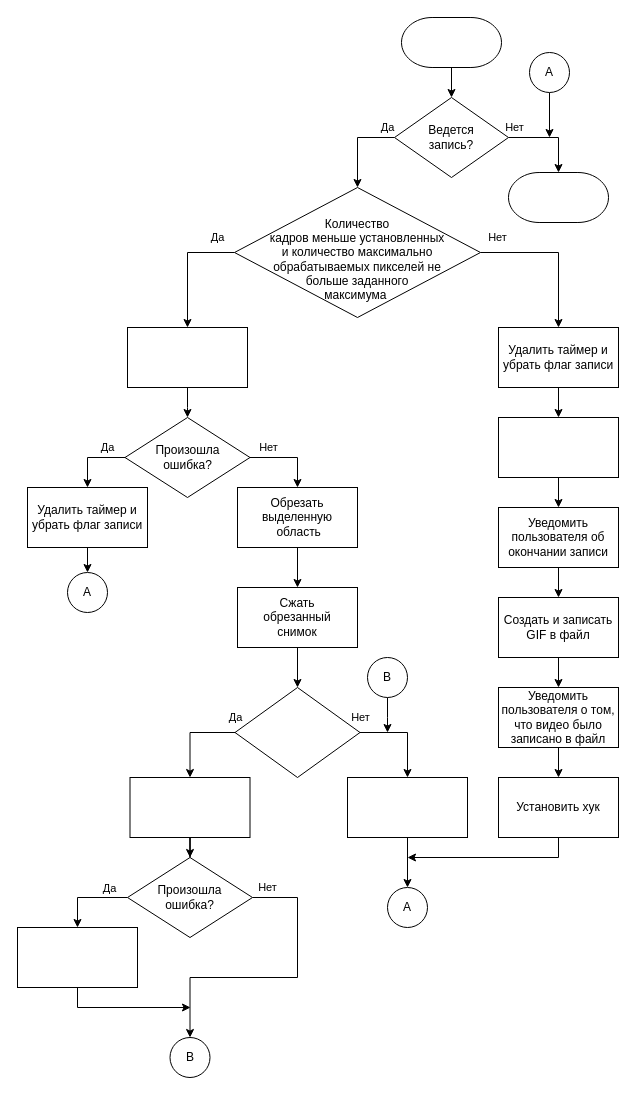
The diagram is 636 pixels wide and 1095 high, and some of its shapes have lost their labels. Each missing label, with the centre of its shape:
"Конец" belongs at point 558,197.
"Наложить курсор" belongs at point 189,807.
"Начало" belongs at point 451,42.
"Необходимо наложить курсор?" belongs at point 297,732.
"Создать новый снимок экрана" belongs at point 187,357.
"Убрать флаг наложения курсора" belongs at point 77,957.
"Удалить хук" belongs at point 558,447.
"Установить задержку кадра и добавить в фрейм кадров" belongs at point 407,807.
